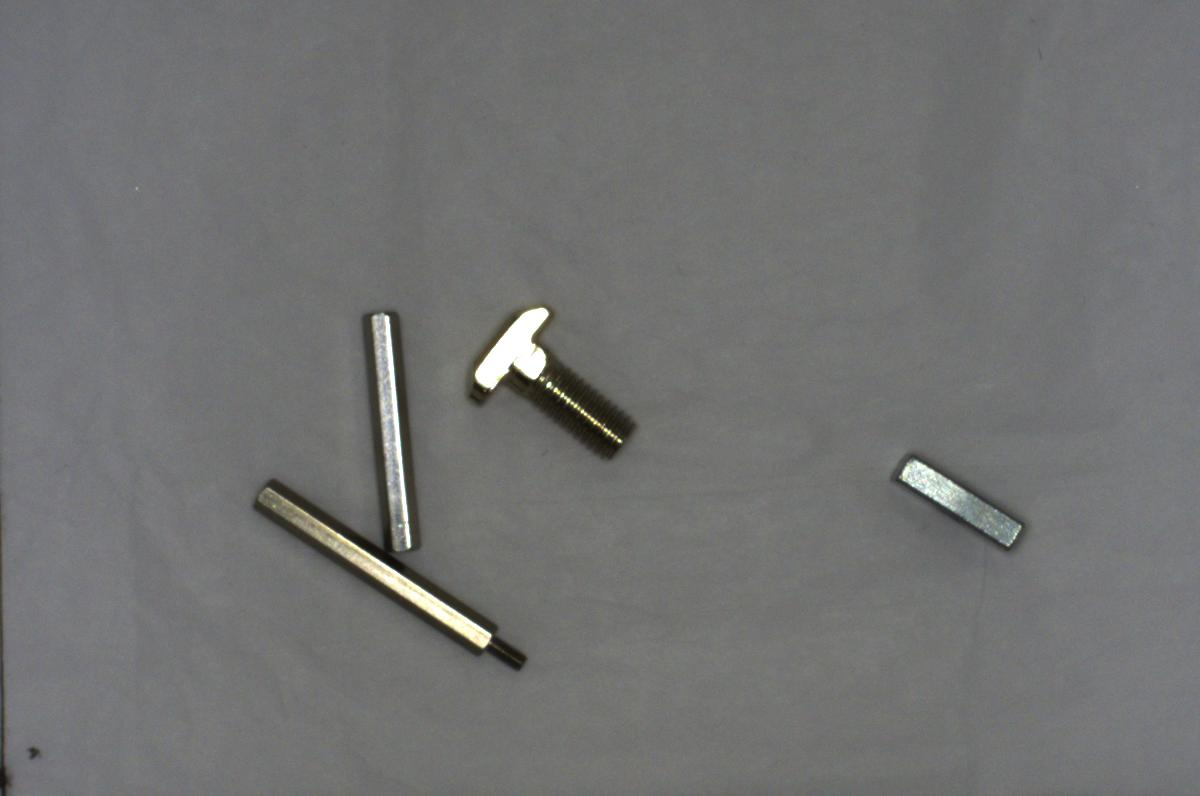Double hexagonal column: (351, 301, 435, 559)
Hexagonal steel column: (247, 480, 533, 675)
Rectangular nut: (886, 449, 1027, 552)
T-shaped screw: (470, 301, 638, 467)
